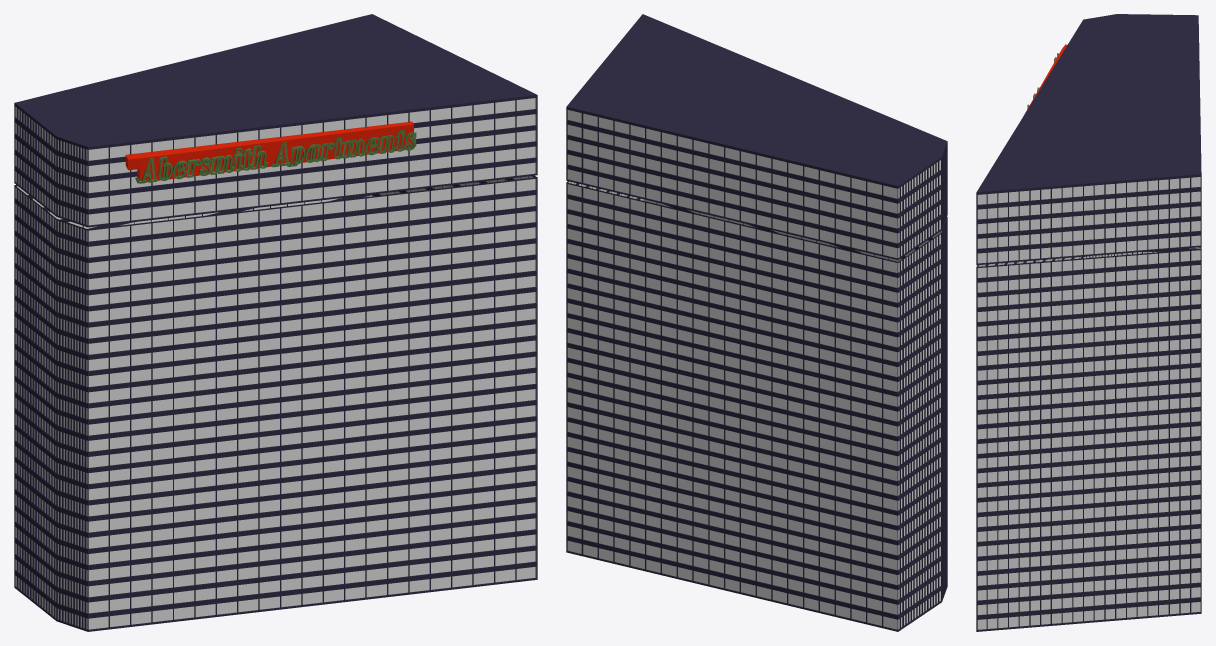
The model's file is AbersmithApartments.fbx.
3 renders of one model, left to right at view 1: azimuth 30°, elevation 25°; view 2: azimuth 150°, elevation 25°; view 3: azimuth 270°, elevation 25°, orthographic. The views are drawn at different scales.
Visible parts, largest first — view 1: AbersmithApartments, Cube, Text; view 2: AbersmithApartments; view 3: AbersmithApartments.
Boxes of the visible parts, x1,y1,x2,y2 form: AbersmithApartments: [14, 14, 537, 631]; Cube: [125, 121, 413, 182]; Text: [135, 129, 416, 183]; AbersmithApartments: [566, 14, 947, 631]; AbersmithApartments: [976, 14, 1201, 631].
Size of the model in its own units: 7830 by 9000 by 4176.
